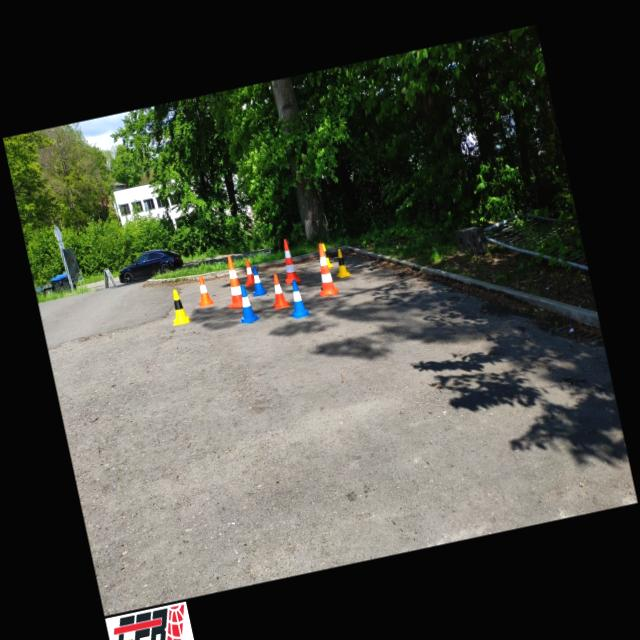blue_cone: (230, 282, 262, 326), (284, 278, 312, 320), (246, 264, 267, 296)
large_orange_cone: (308, 241, 338, 297), (217, 254, 244, 310), (276, 238, 301, 284)
orange_cone: (266, 272, 290, 310), (193, 274, 213, 306), (240, 259, 254, 286)
yellow_cone: (166, 287, 191, 325), (330, 247, 352, 279), (322, 240, 334, 268)
